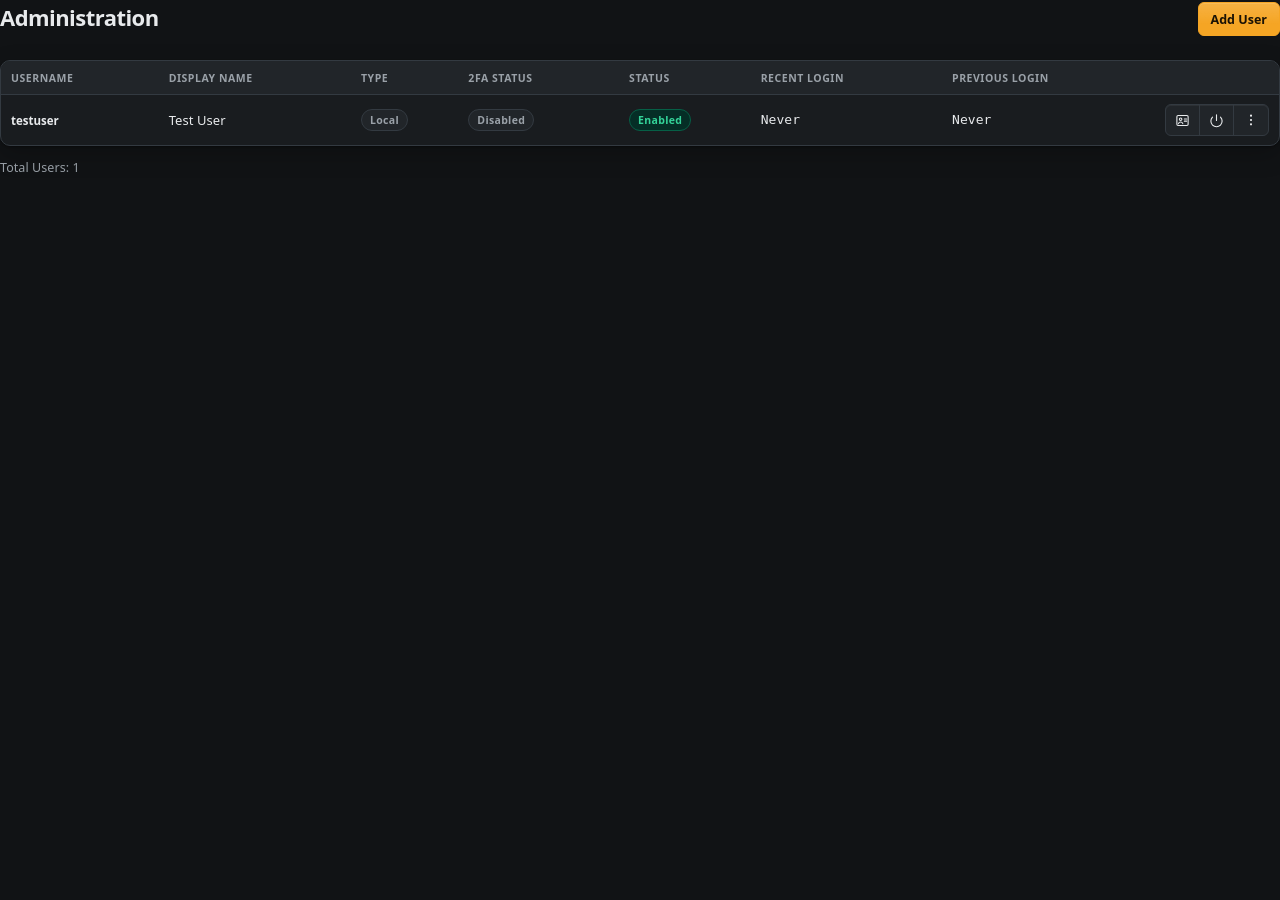
Test case: Users: enable and disable › DISABLING does ask for confirmation, with the name in the text
Click the button named "Disable User": (1216, 120) [1199,105,1233,135]
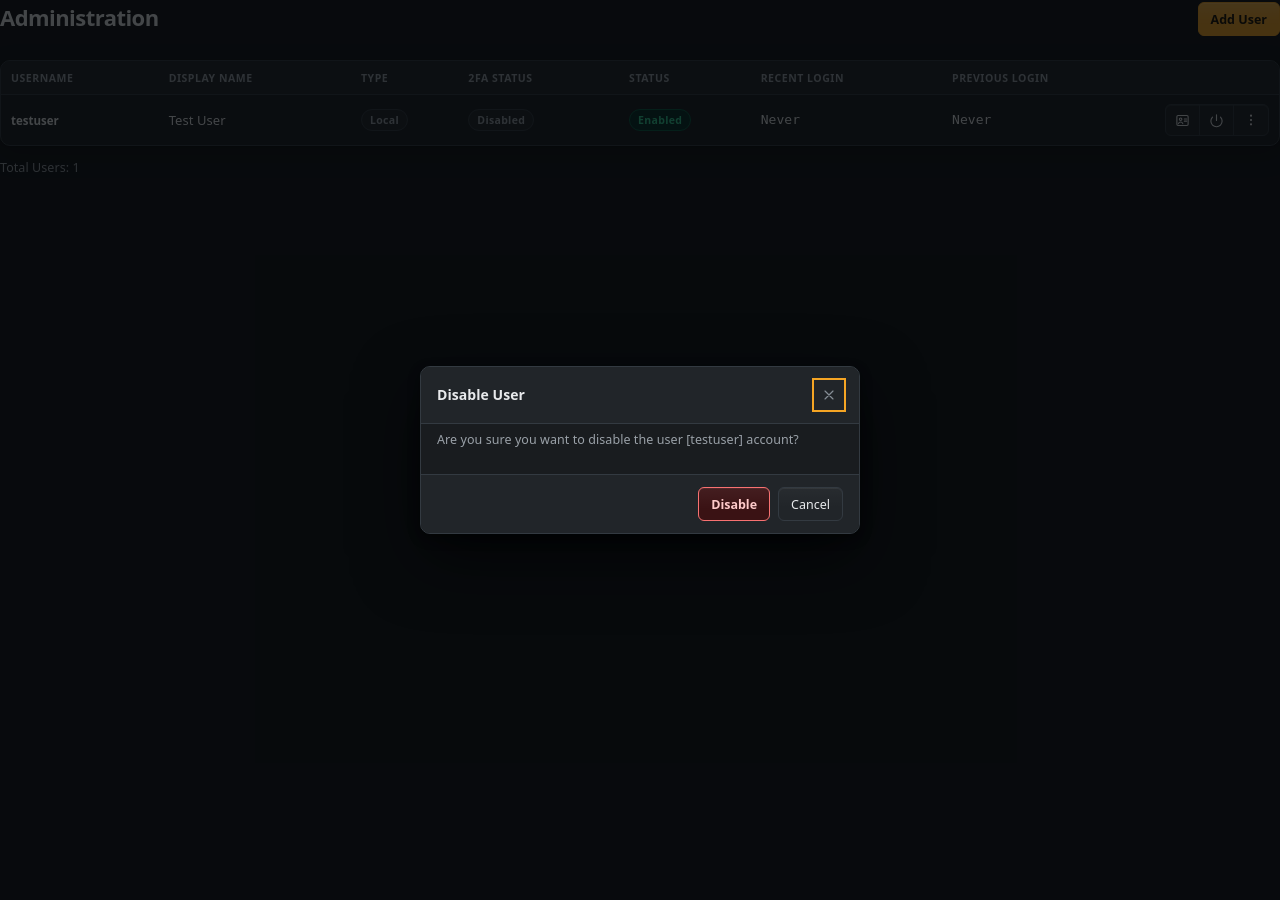
Expected: the text "Are you sure you want to disable the user [testuser] account?" is shown, [437,430,843,450]
